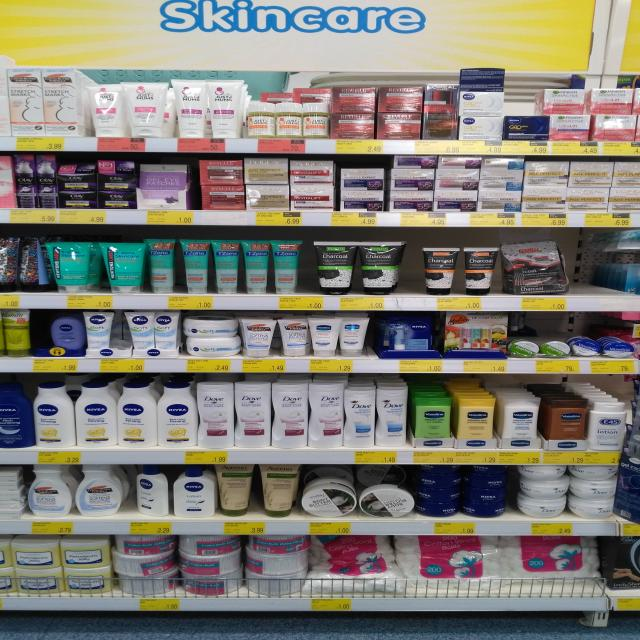unorganised: (243, 551, 309, 595), (112, 552, 178, 595), (299, 477, 357, 519), (132, 465, 174, 519), (456, 66, 506, 93), (391, 155, 436, 170)
